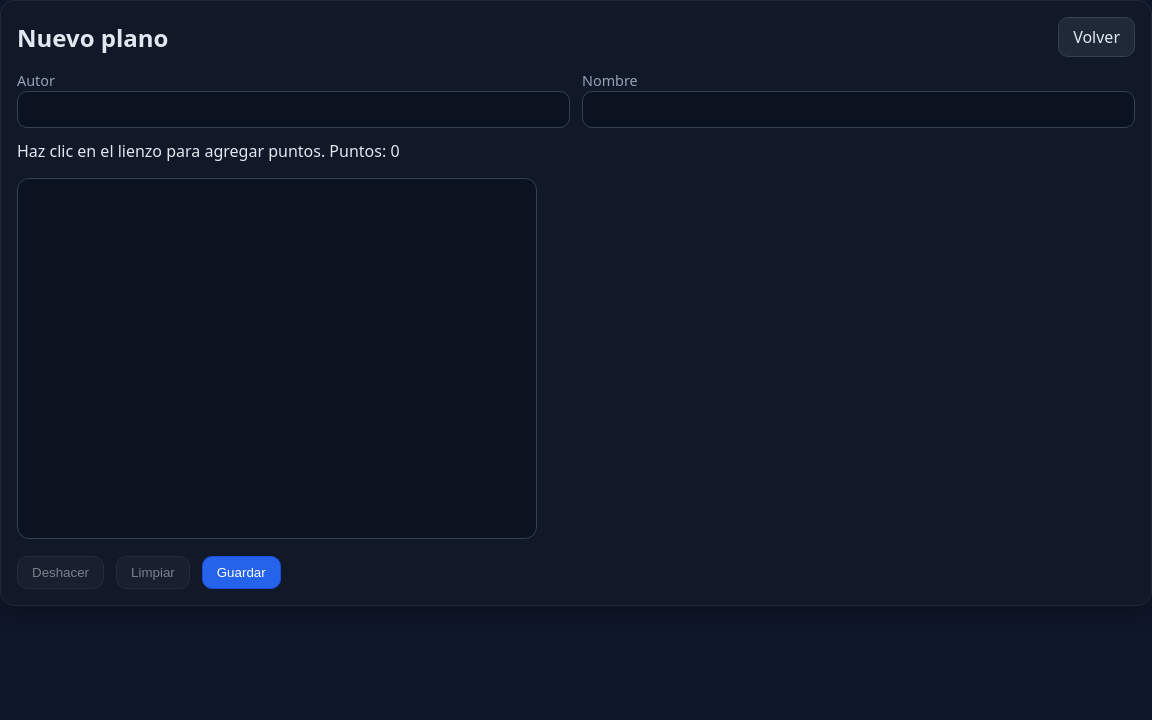
Editor de planos › Guardar envía el plano con los puntos dibujados
The width and height of the screenshot is (1152, 720).
Type "Ana" into the field labelled "Autor".
click(294, 110); type("Ana")  # box left=17, top=91, right=570, bottom=128
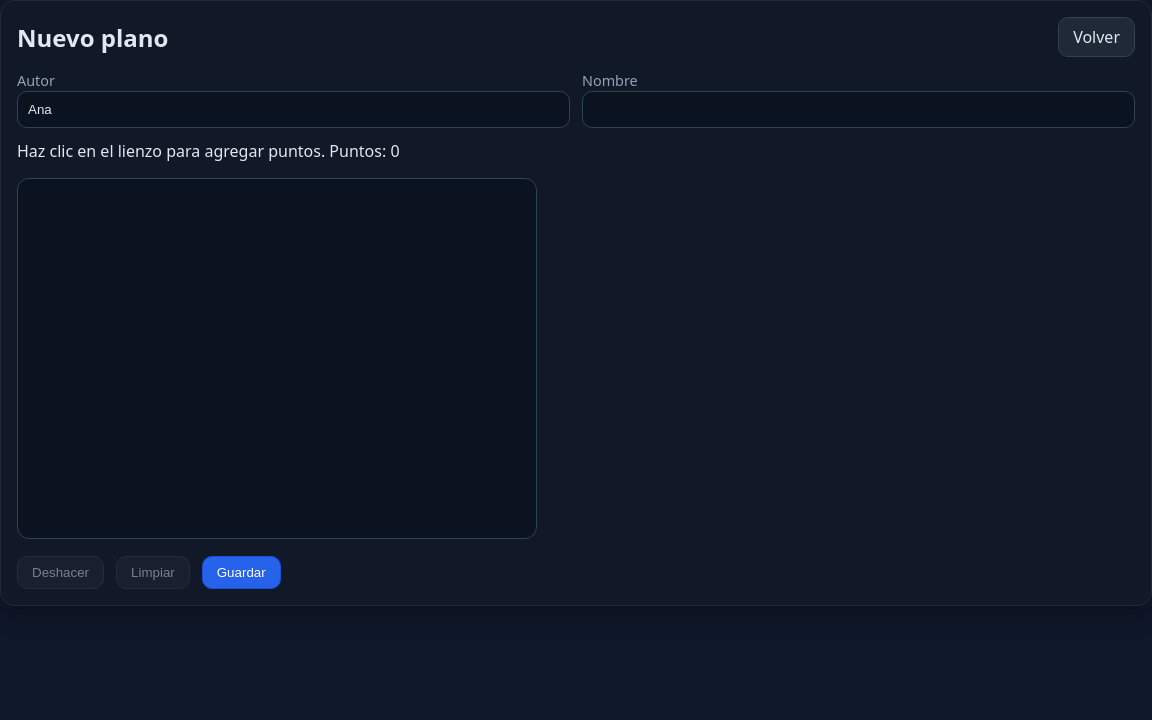
Type "casa" into the field labelled "Nombre".
click(858, 110); type("casa")  # box left=582, top=91, right=1135, bottom=128
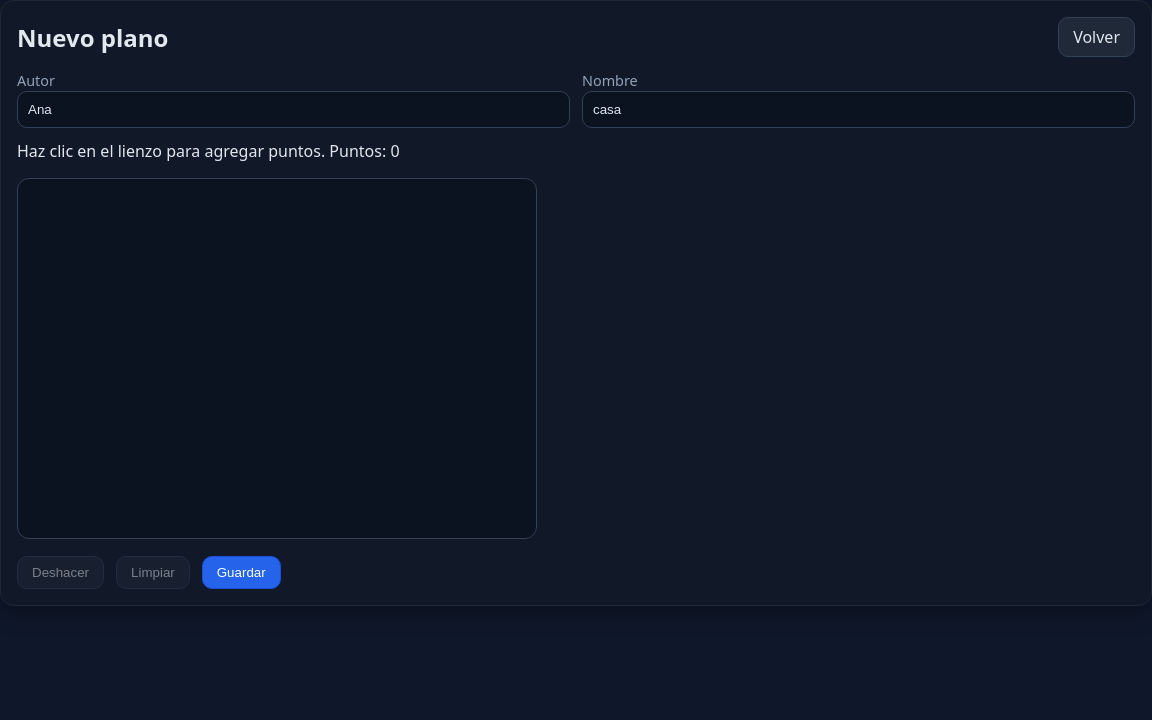
Click the drawing with id "blueprint-editor".
click(277, 358)  # box left=17, top=178, right=537, bottom=539
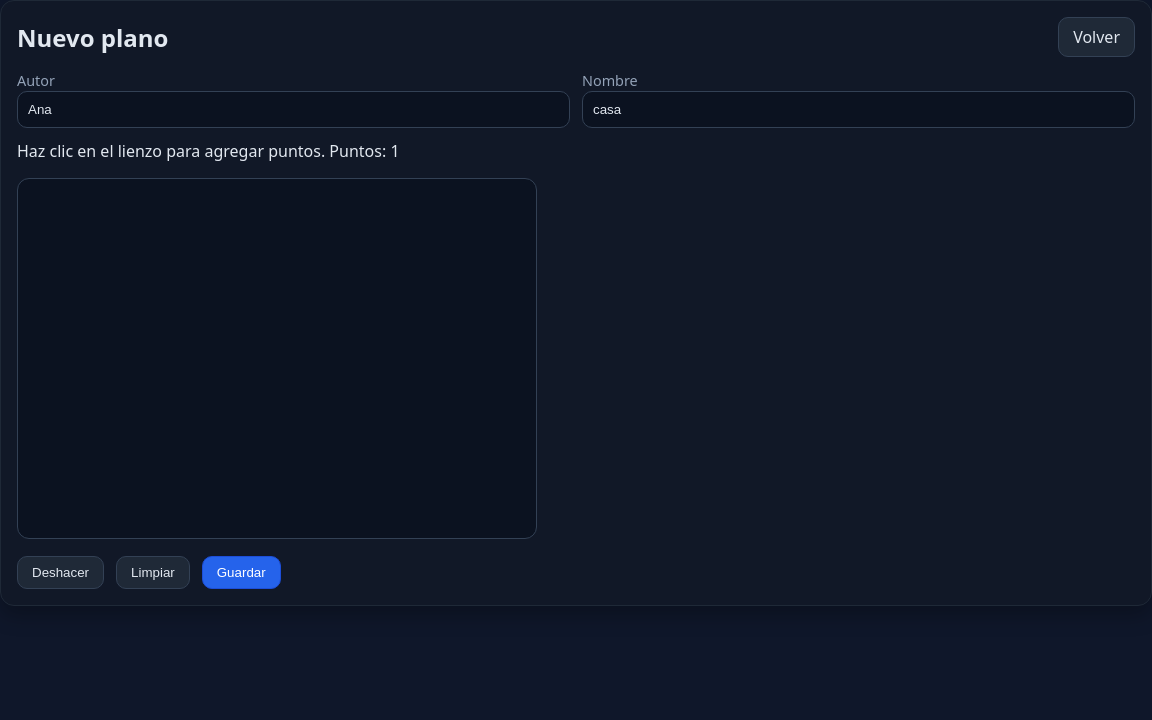
Click the drawing with id "blueprint-editor".
click(277, 358)  # box left=17, top=178, right=537, bottom=539
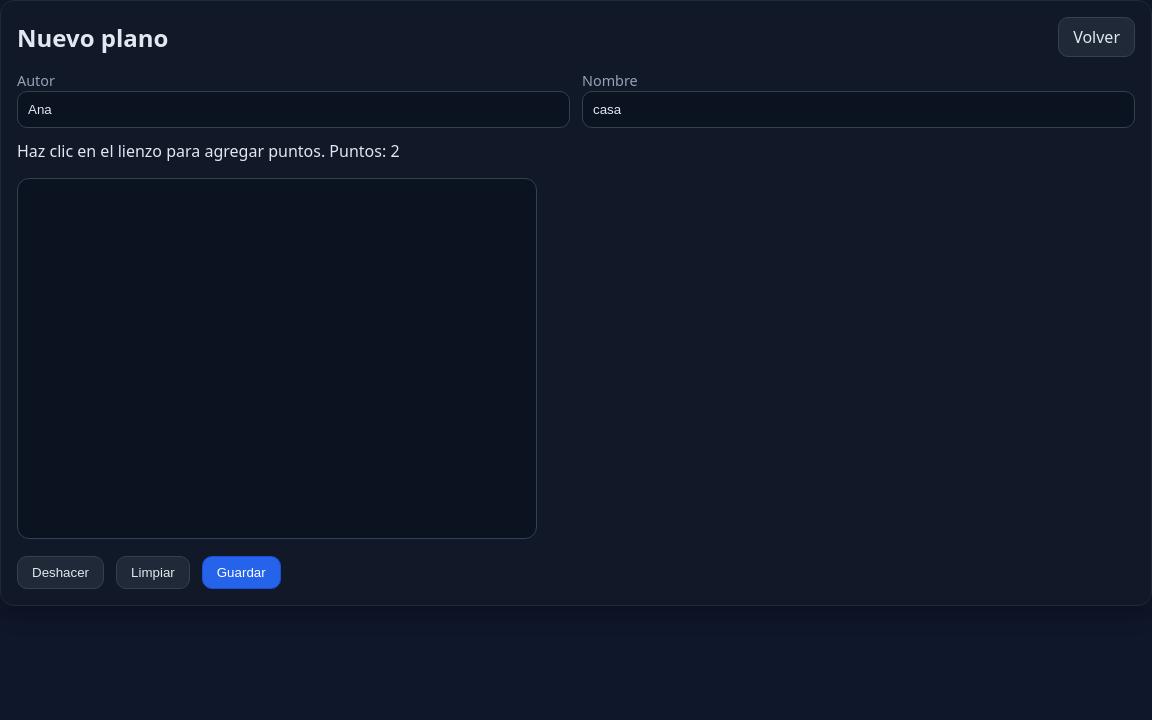
Click the button "Guardar".
click(241, 572)  # box left=202, top=556, right=281, bottom=589
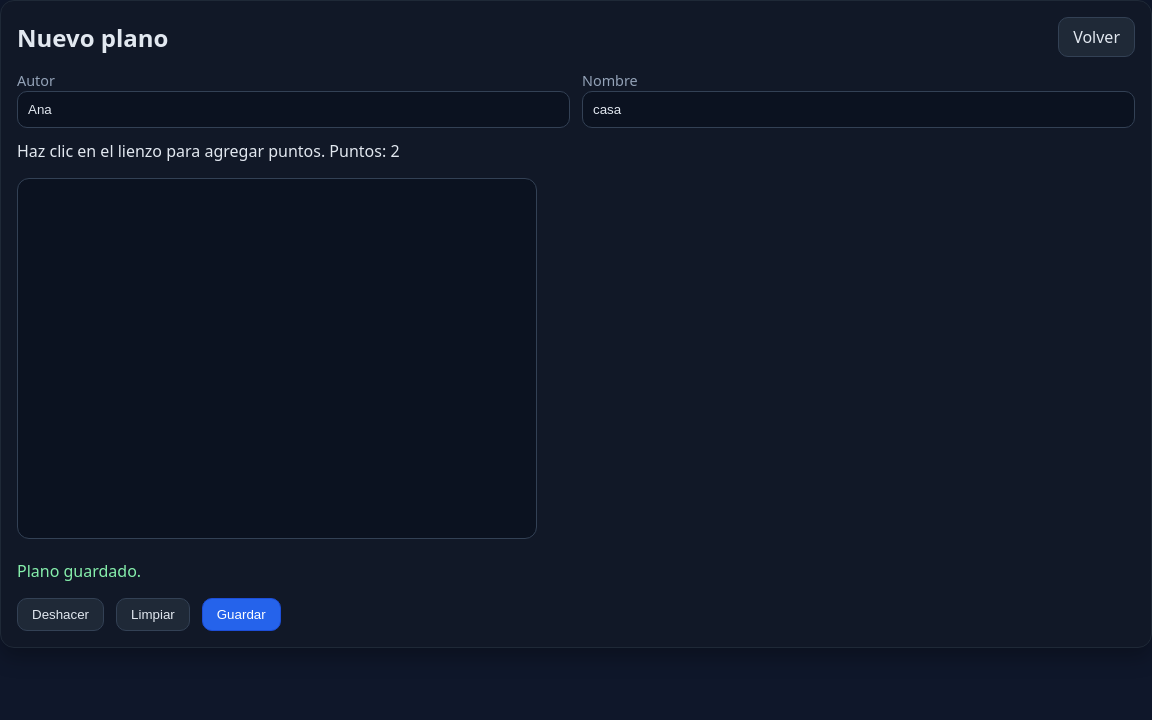
Now the text "Plano guardado." is shown, box left=17, top=560, right=141, bottom=582
